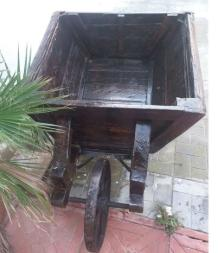BROUETTE: (4, 7, 208, 253)
